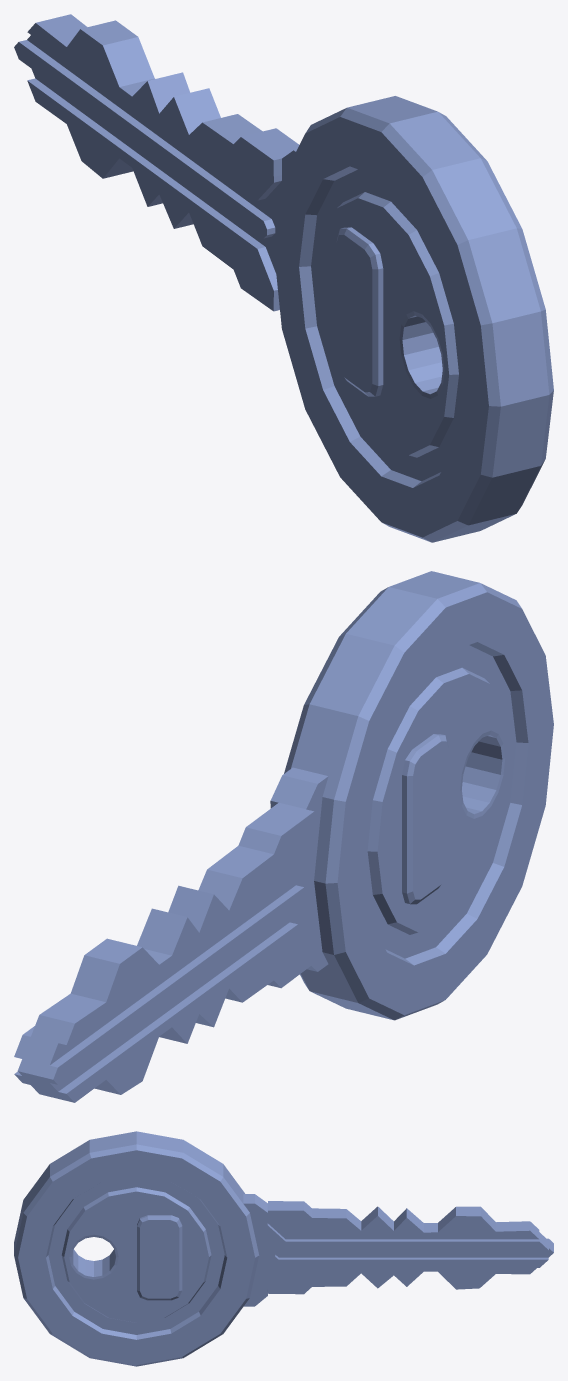
The model's file is key 1.fbx.
3 views of the same model, one above another, from view 1: azimuth 30°, elevation 25°; view 2: azimuth 150°, elevation 25°; view 3: azimuth 270°, elevation 25° (orthographic). The views are drawn at different scales.
Visible parts, largest first — view 1: Key; view 2: Key; view 3: Key.
Boxes of the visible parts, x1,y1,x2,y2 form: Key: [14, 14, 553, 542]; Key: [14, 571, 553, 1102]; Key: [14, 1131, 553, 1366].
Size of the model in its own units: 2 by 9.99 by 22.
